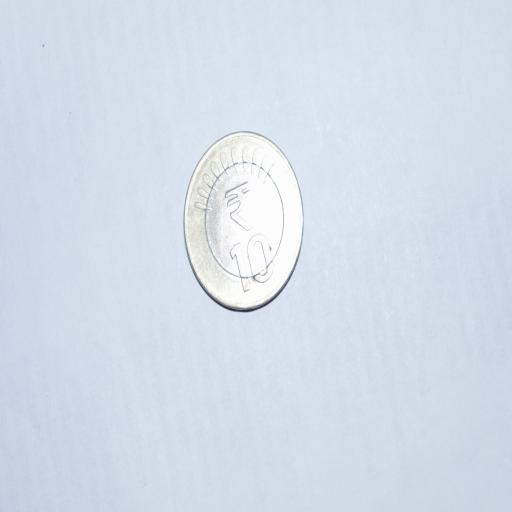rupee10: (183, 130, 304, 311)
